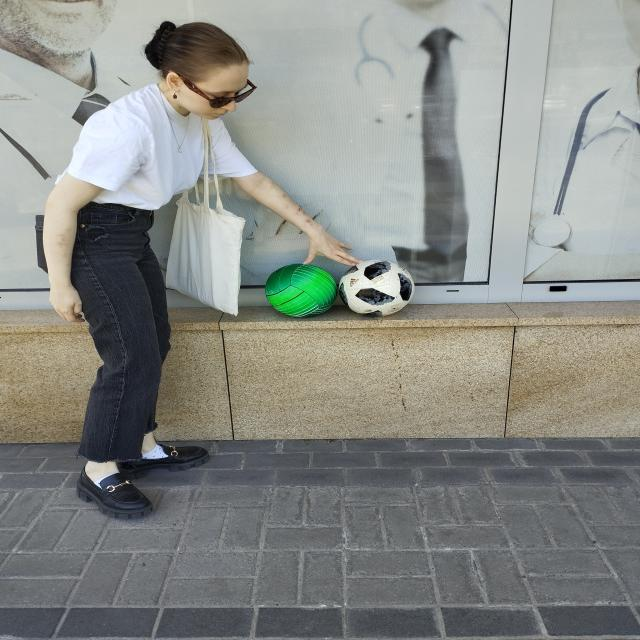nozna: (339, 260, 415, 317)
zielona: (265, 264, 338, 318)
